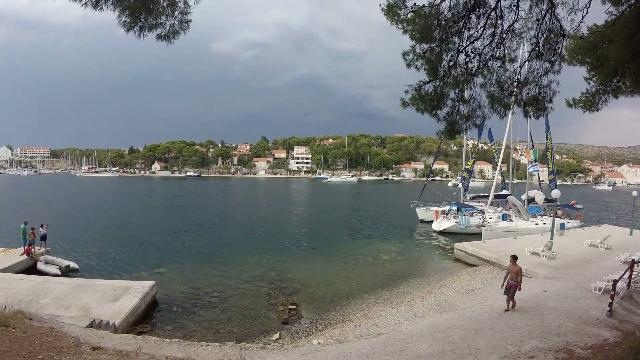Sailboat: (322, 170, 361, 186)
